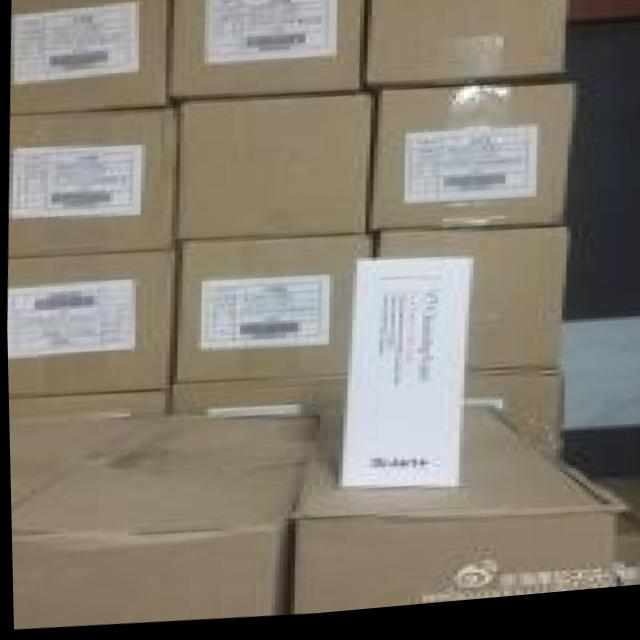box: (291, 407, 623, 616), (8, 418, 307, 626), (337, 267, 471, 493), (177, 99, 372, 246), (172, 241, 372, 384), (370, 95, 571, 235), (378, 237, 563, 379), (5, 253, 175, 399), (6, 113, 178, 256), (364, 0, 568, 98), (171, 0, 367, 102), (9, 0, 174, 114), (460, 383, 561, 470), (168, 380, 344, 418), (7, 395, 166, 428)
